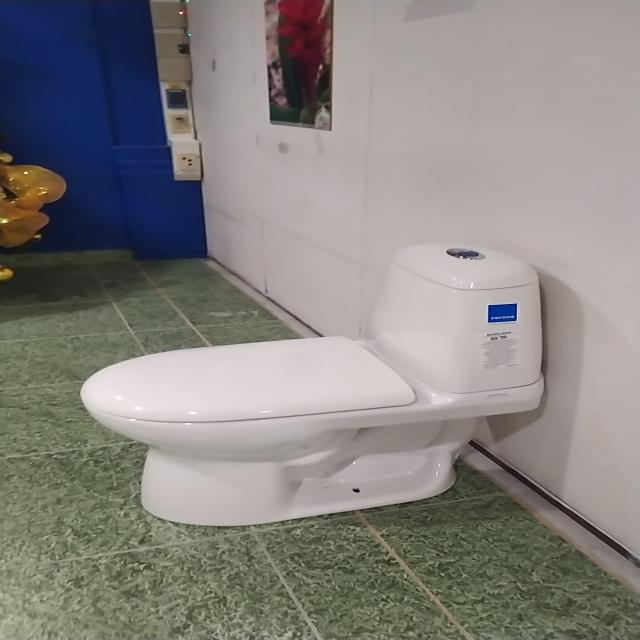toilet: (78, 242, 544, 527)
